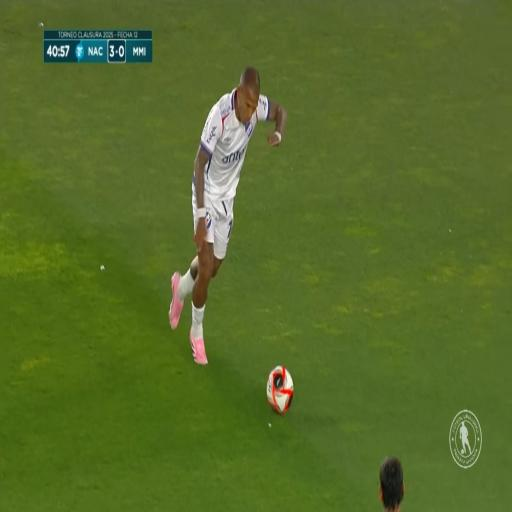Ball: (265, 364, 293, 416)
Player: (154, 76, 289, 364)
